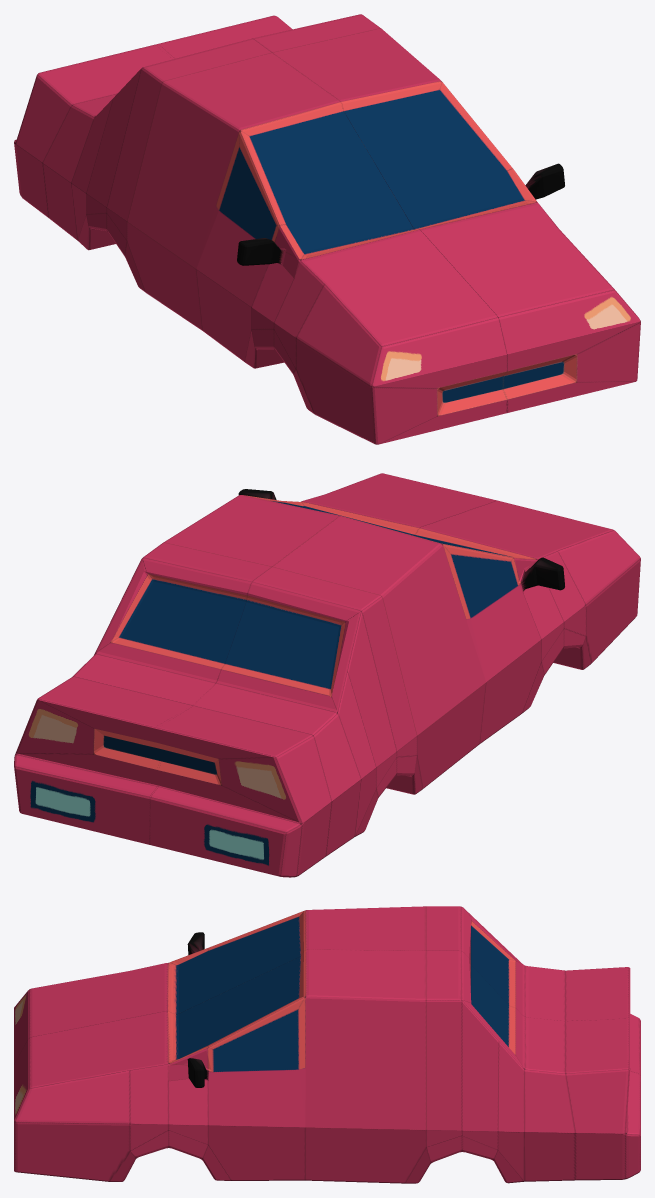
Rendered from CarV7.fbx.
3 views of the same model, one above another, from view 1: azimuth 30°, elevation 25°; view 2: azimuth 150°, elevation 25°; view 3: azimuth 270°, elevation 25° (orthographic). The views are drawn at different scales.
Visible parts, largest first — view 1: Cube; view 2: Cube; view 3: Cube.
Part boxes in pixels (bbox=[...]): Cube: bbox=[14, 14, 640, 444]; Cube: bbox=[14, 473, 640, 877]; Cube: bbox=[14, 906, 640, 1183].
Bounding box in the file's own units: 123 × 73.24 × 235.
